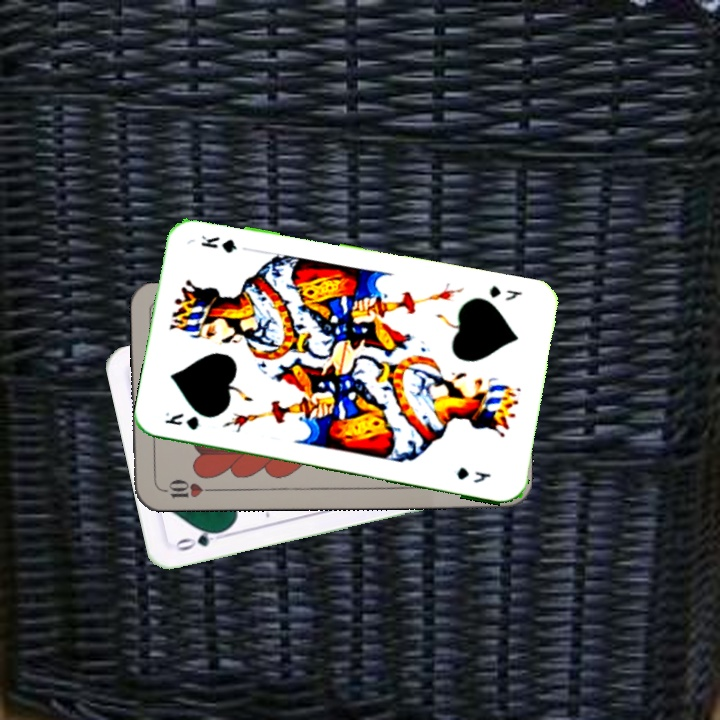GK: (160, 408, 202, 433), (485, 281, 525, 304)
GO: (170, 525, 229, 554)
H10: (157, 475, 216, 501)
